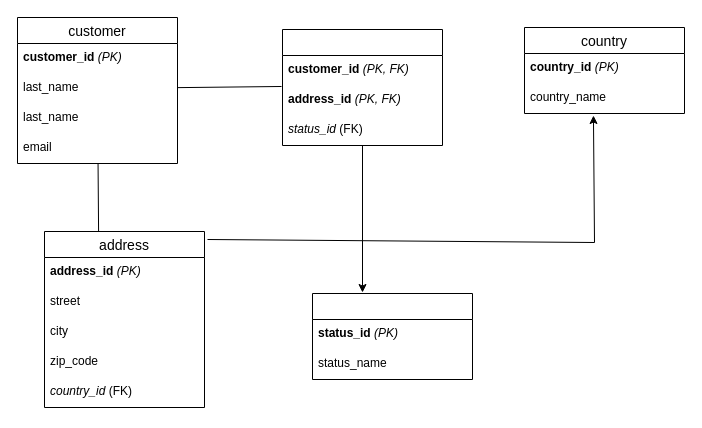
Some shapes in this 702 by 428 pixel diagram are drawn without their labels. Each missing label, with the box of its shape:
address_status: (312, 292, 472, 380)
customer_address: (282, 28, 442, 146)
